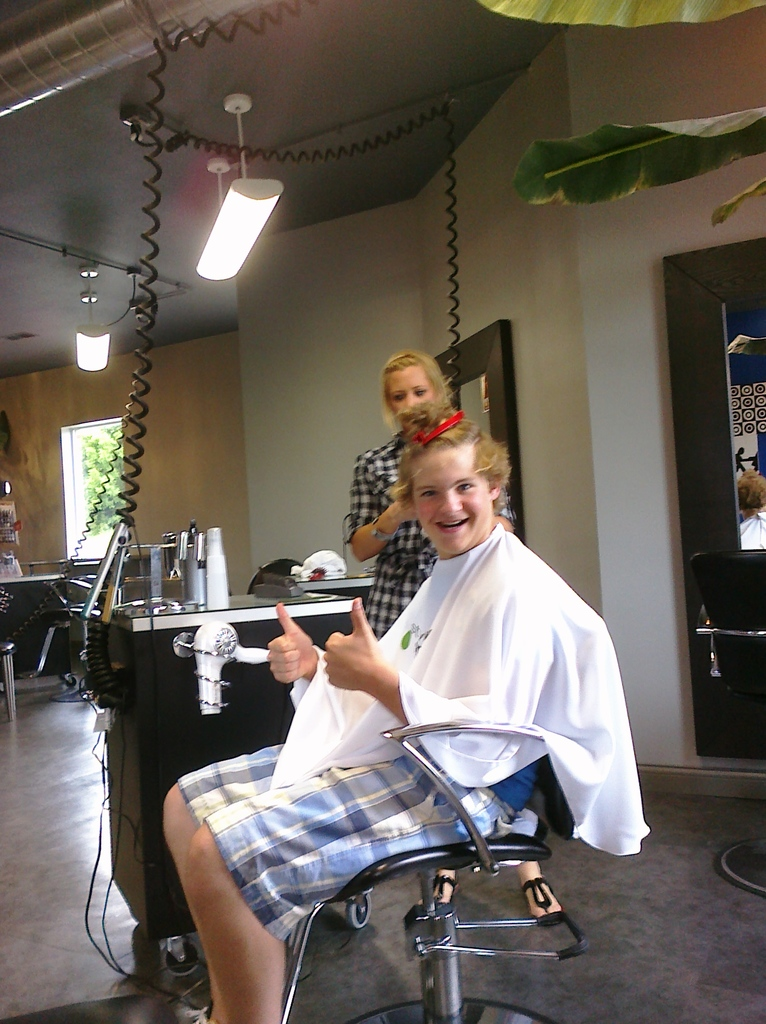Person: (162, 398, 650, 1023), (342, 349, 562, 926)
